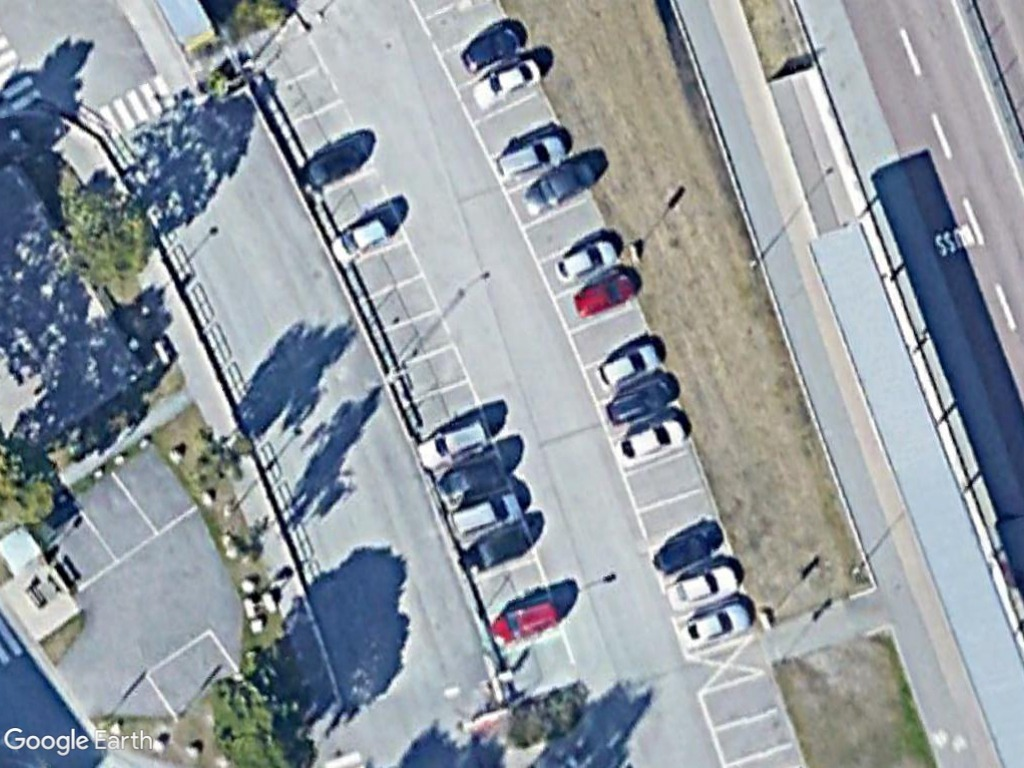car: (516, 153, 600, 220), (454, 516, 538, 577), (416, 412, 492, 473), (663, 560, 745, 616), (444, 487, 525, 543), (471, 55, 546, 114), (569, 263, 644, 321), (486, 596, 565, 650), (612, 413, 692, 465), (676, 597, 755, 649), (603, 375, 679, 429), (495, 129, 567, 183), (592, 338, 663, 392), (328, 212, 394, 269), (553, 233, 622, 286), (457, 24, 522, 77)
